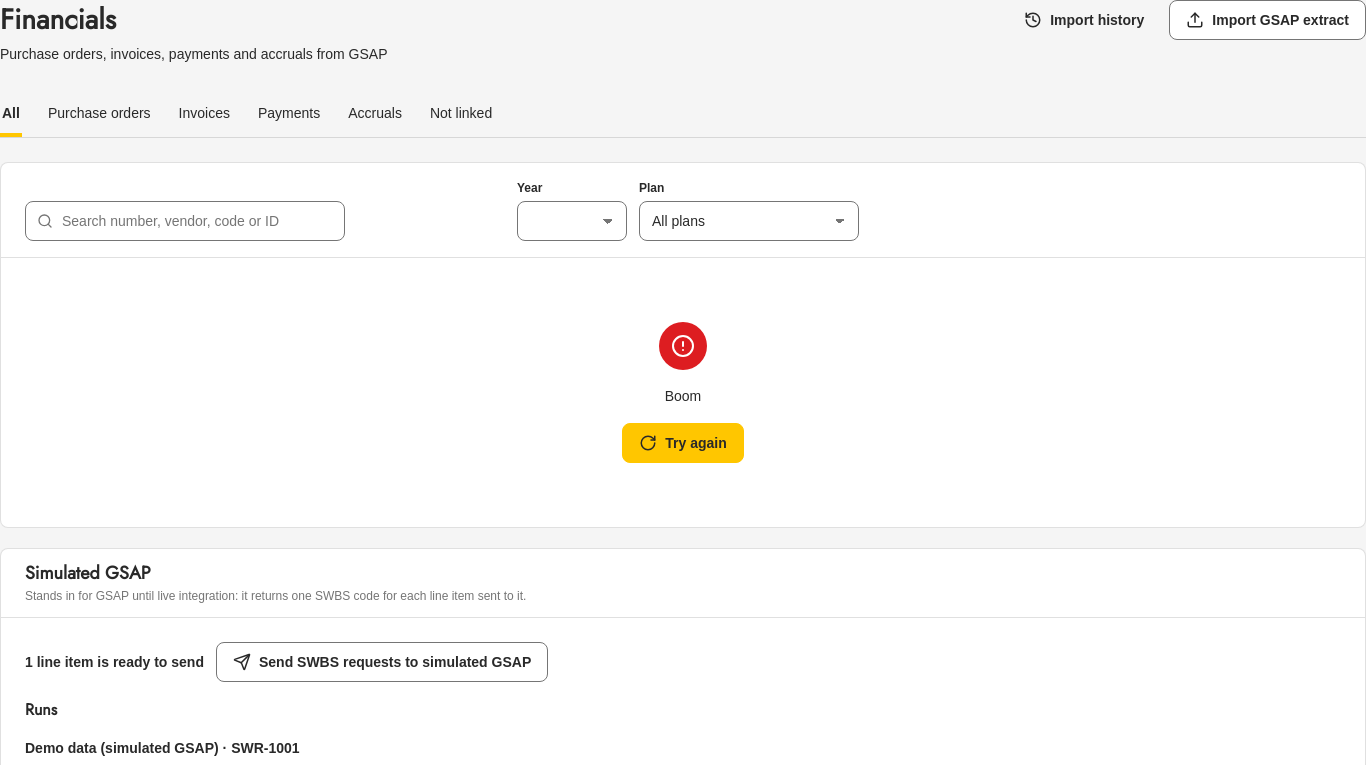
FinancialsPage (015 US3, FR-020 – FR-021) › shows a failure with Try again
What coordinates should you click on to do the following:
click the button "Try again"
I would click on:
 (683, 443)
Its box is [622,423,744,463].
(page scrolled)
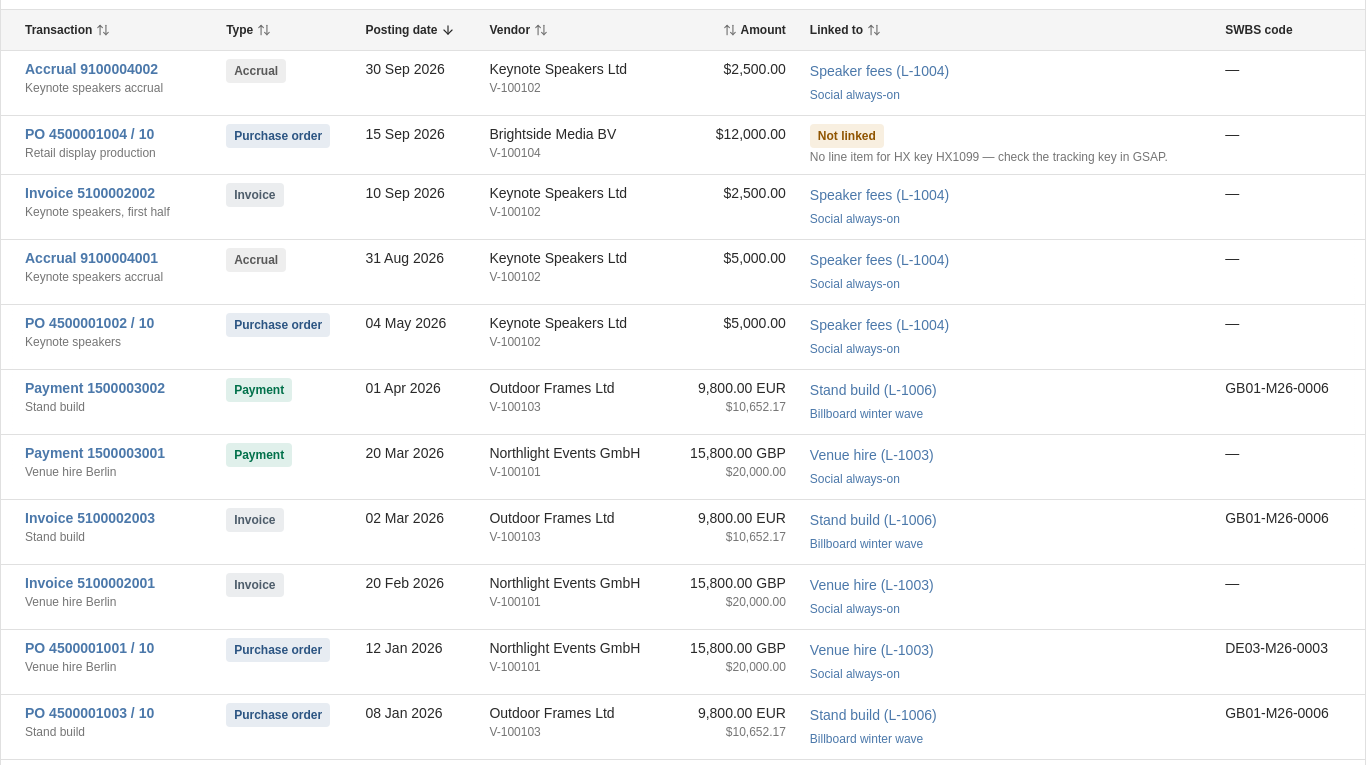
expect the table named "Transactions" is shown: met
